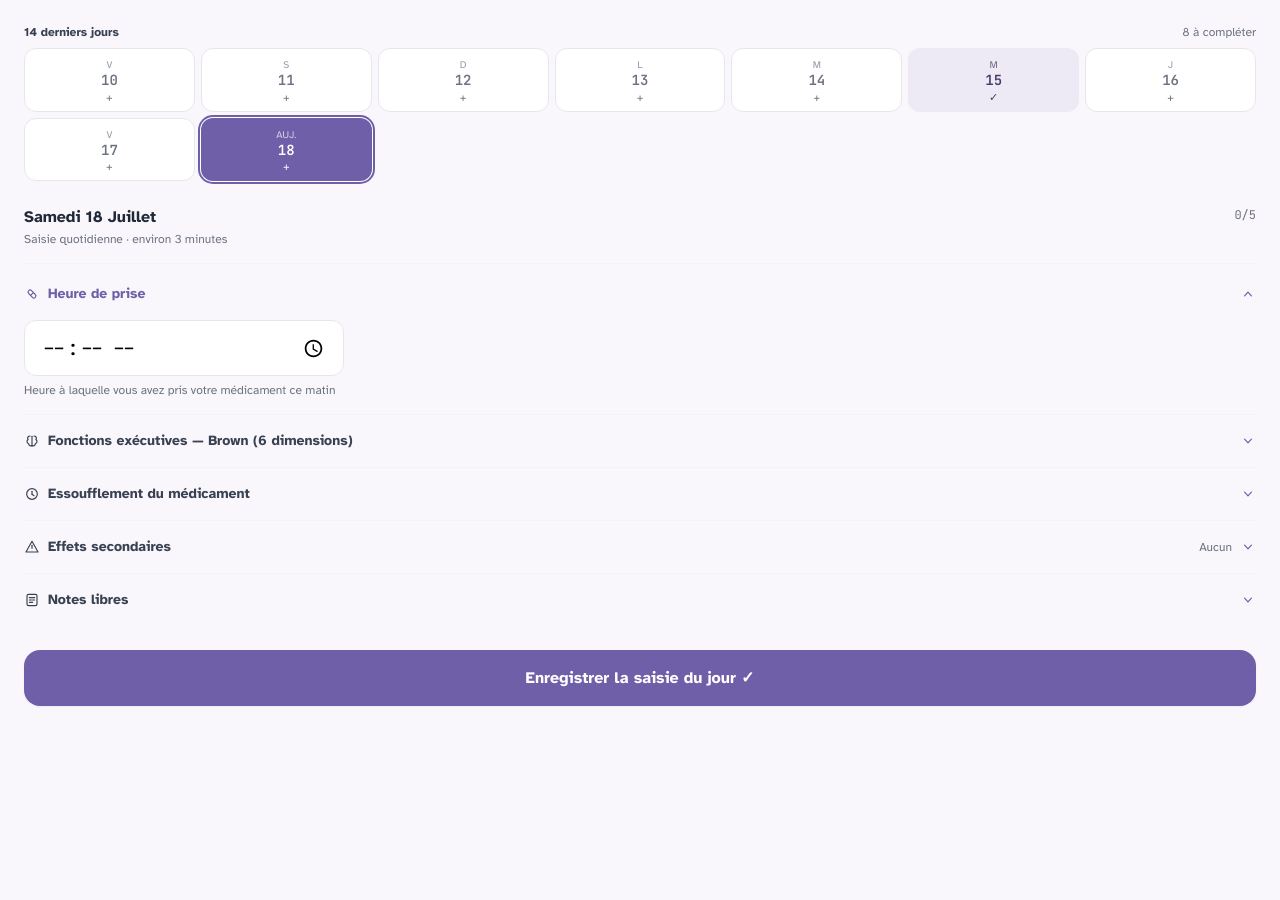
Test: DailyCheckIn — missed-day catch-up › shows a read-only summary when a past day is already logged
What coordinates should you click on to do the following:
click the button named "15 juillet"
I would click on:
 (994, 80)
Its box is x1=908 y1=48 x2=1079 y2=112.
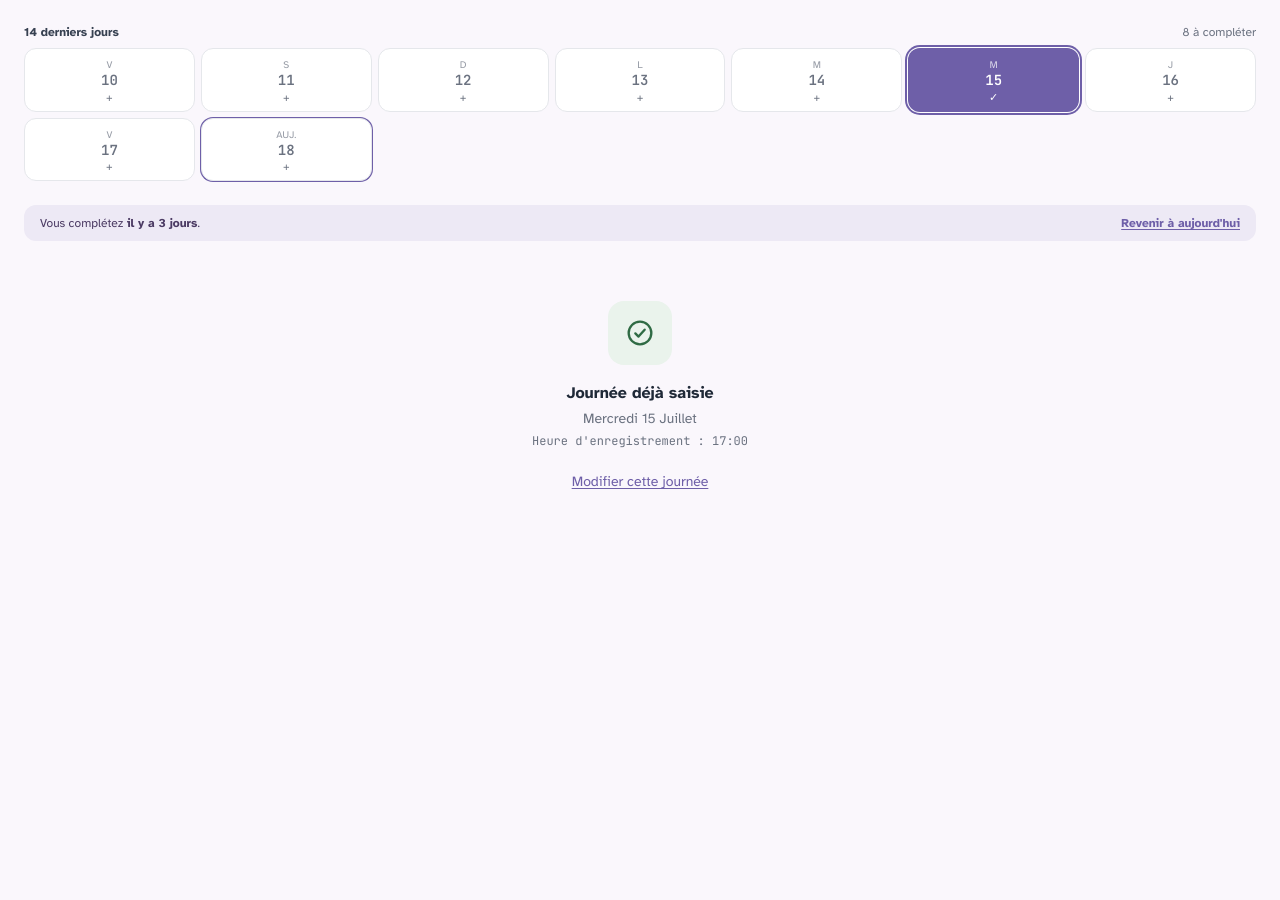
Result: the heading "Journée déjà saisie" is shown at x1=566 y1=383 x2=714 y2=403
Result: the text "Heure d'enregistrement : 17:00" is shown at x1=532 y1=433 x2=748 y2=449
